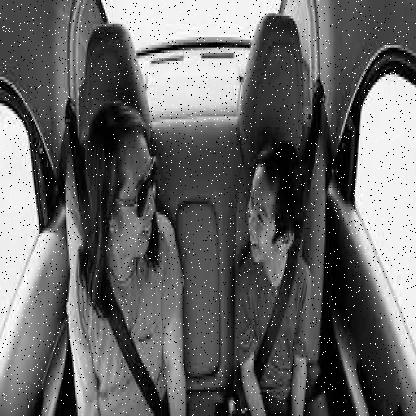seatbelt: (54, 93, 176, 387), (228, 132, 315, 388)
